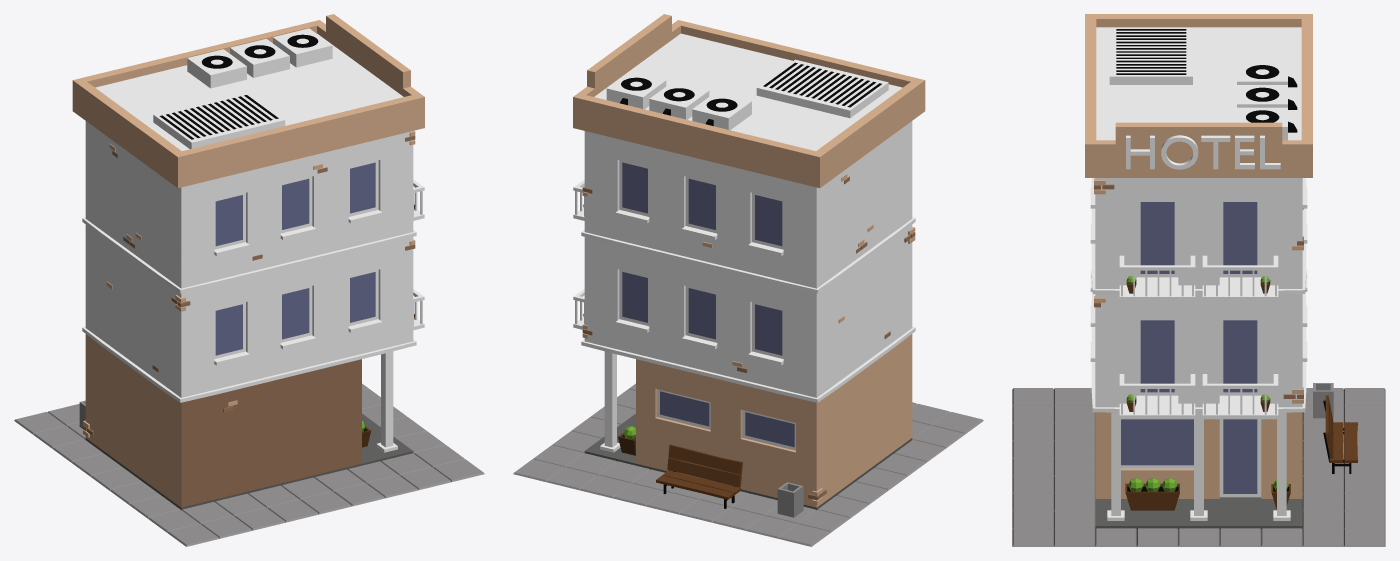
Rendered from Hotel.fbx.
3 renders of one model, left to right at view 1: azimuth 30°, elevation 25°; view 2: azimuth 150°, elevation 25°; view 3: azimuth 270°, elevation 25°, orthographic. The views are drawn at different scales.
Parts seen in each view (by area): view 1: Building_B; view 2: Building_B; view 3: Building_B.
Boxes of the visible parts, x1,y1,x2,y2 form: Building_B: (14, 14, 484, 546); Building_B: (513, 14, 983, 546); Building_B: (1012, 14, 1385, 546).
Size of the model in its own units: 2000 by 2403 by 2000.
